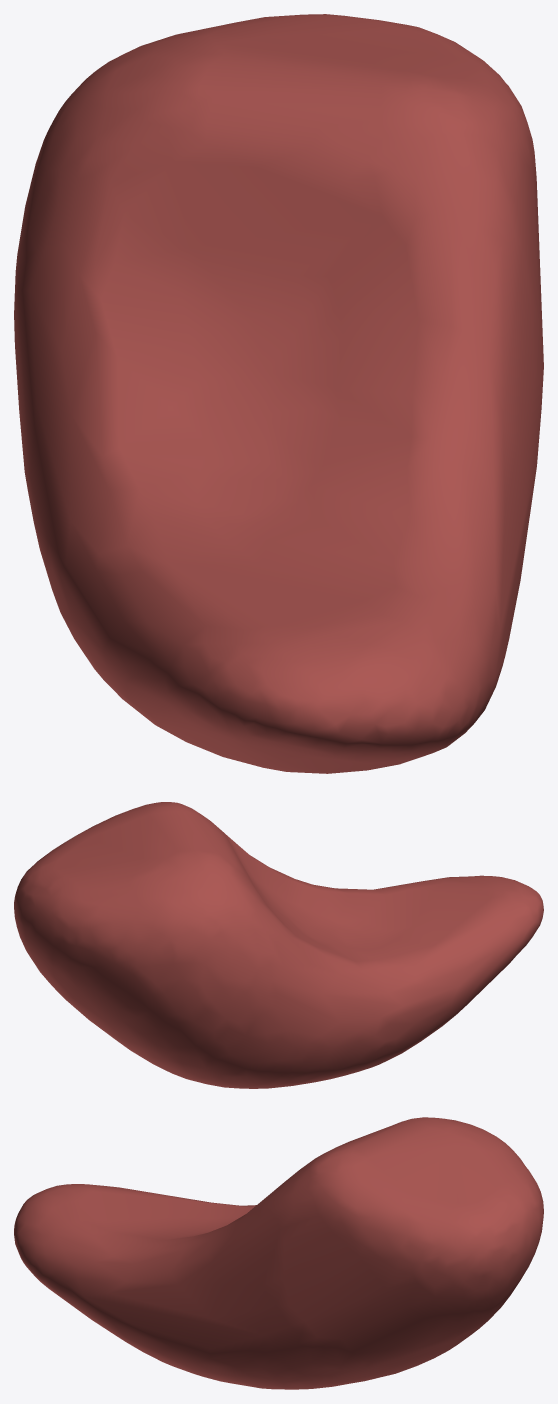
File: FMA73303.glb
3 renders of one model, top to bottom at view 1: azimuth 30°, elevation 25°; view 2: azimuth 150°, elevation 25°; view 3: azimuth 270°, elevation 25°, orthographic. The views are drawn at different scales.
Parts seen in each view (by area): view 1: FMA73303; view 2: FMA73303; view 3: FMA73303.
Part boxes in pixels (x1,y1,x2,y2): FMA73303: [14, 14, 543, 773]; FMA73303: [14, 802, 543, 1088]; FMA73303: [14, 1117, 543, 1389].
Bounding box in the file's own units: 0.00803 × 0.00614 × 0.0111.
